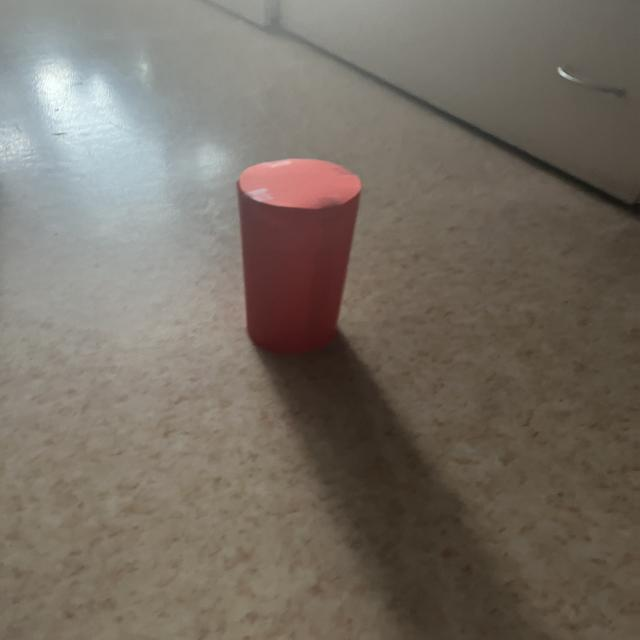przeszkoda: (237, 159, 361, 353)
